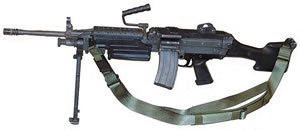rifle: (4, 15, 294, 122)
